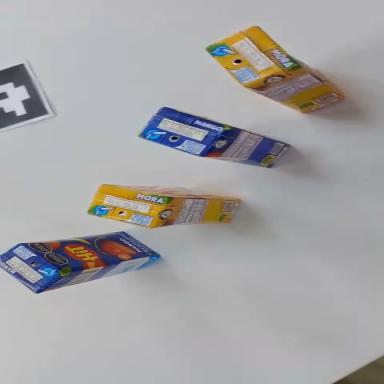HIT-MANGO: (0, 212, 161, 301), (138, 102, 291, 180)
HIT-MORA: (202, 10, 348, 139), (87, 183, 242, 238)
cara_F: (21, 217, 159, 281)
